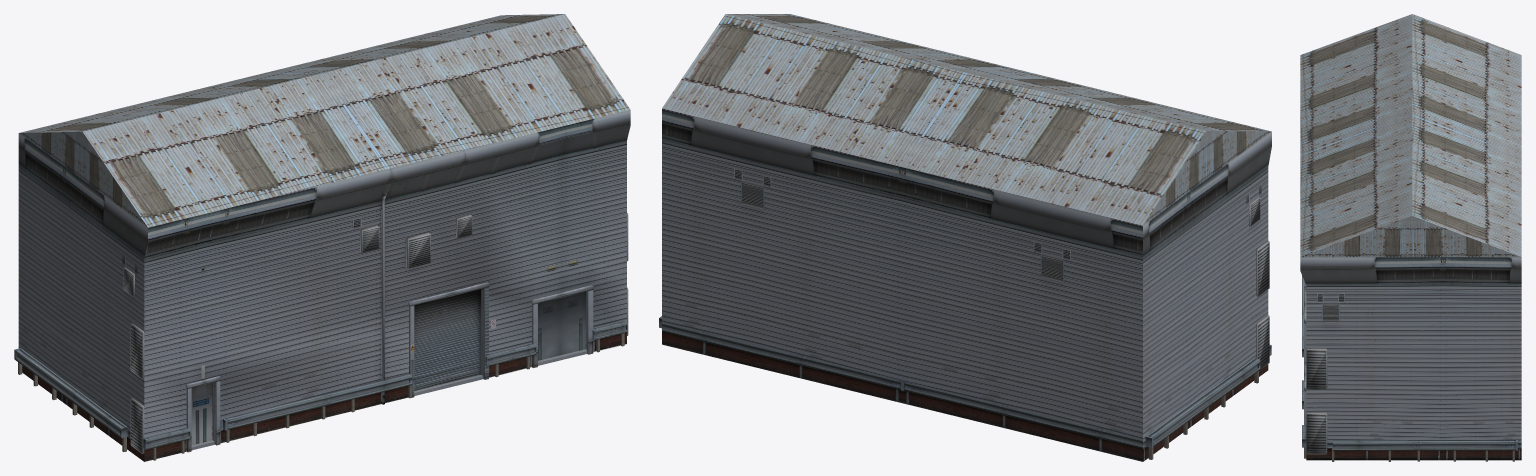
Rendered from industrial9.obj.
3 views of the same model, side by side, from view 1: azimuth 30°, elevation 25°; view 2: azimuth 150°, elevation 25°; view 3: azimuth 270°, elevation 25° (orthographic). The views are drawn at different scales.
Parts seen in each view (by area): view 1: industrial9; view 2: industrial9; view 3: industrial9.
Boxes of the visible parts, x1,y1,x2,y2 form: industrial9: (14,14,630,461); industrial9: (659,14,1271,461); industrial9: (1300,14,1521,461).
Size of the model in its own units: 679 by 373 by 306.
Materials: 1 (1 with a texture image).
